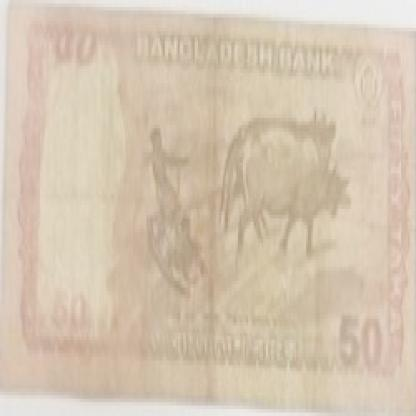Fifty taka: (326, 309, 393, 382), (53, 21, 110, 94)
